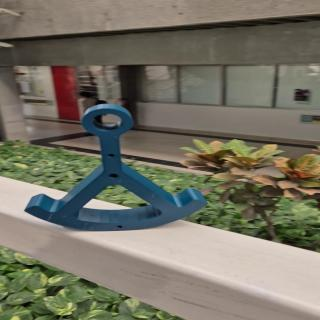haptic: (23, 102, 210, 232)
